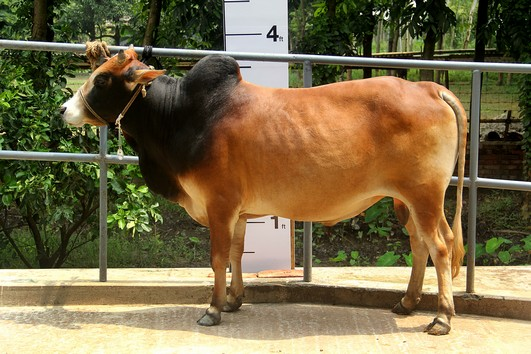cow: (52, 37, 473, 337)
